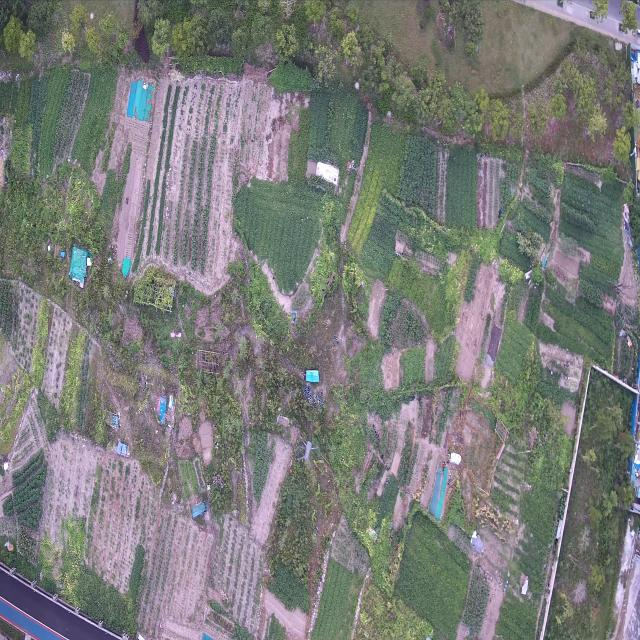UAV: (297, 434, 319, 473)
